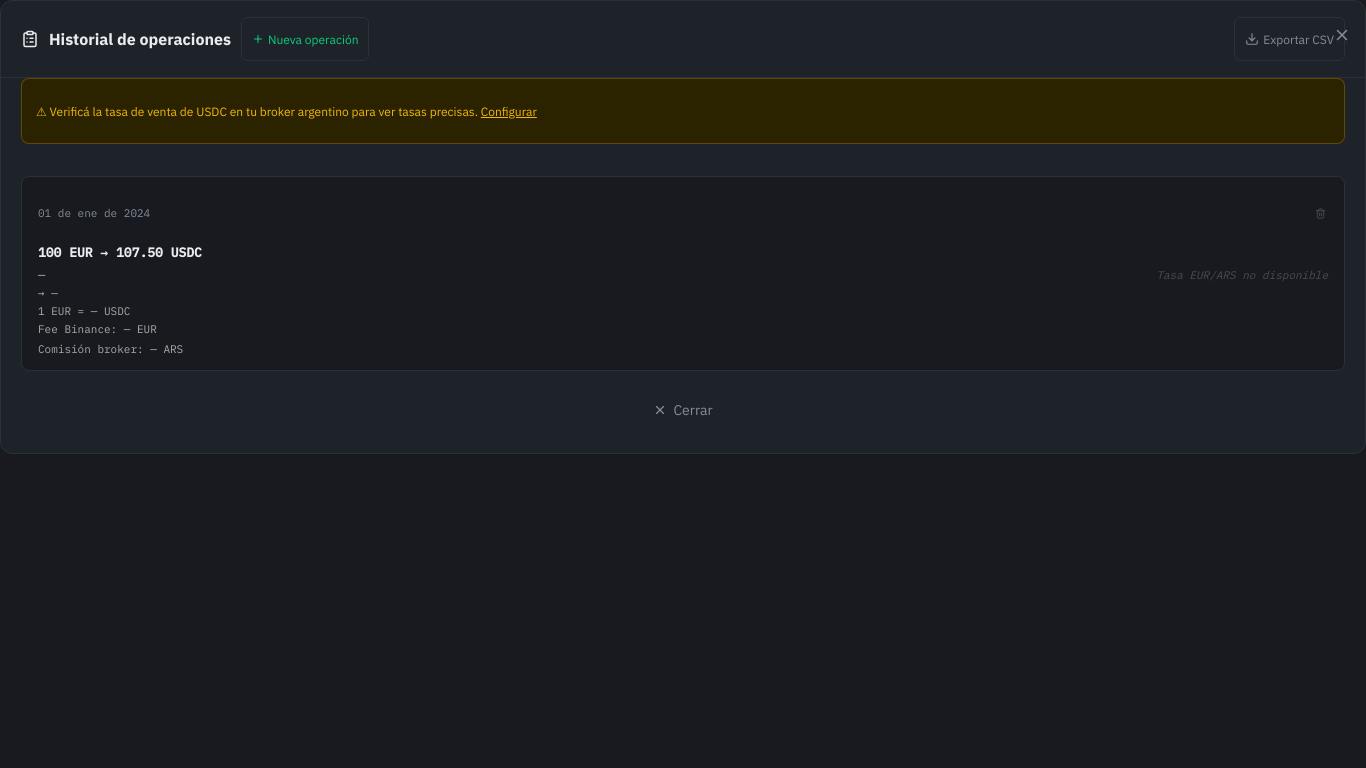
Delete entry with confirmation dialog › clickear el botón eliminar abre un diálogo de confirmación (no window.confirm)
Click the button named "Eliminar operación".
click(1320, 213)  # box [1313,191,1328,235]
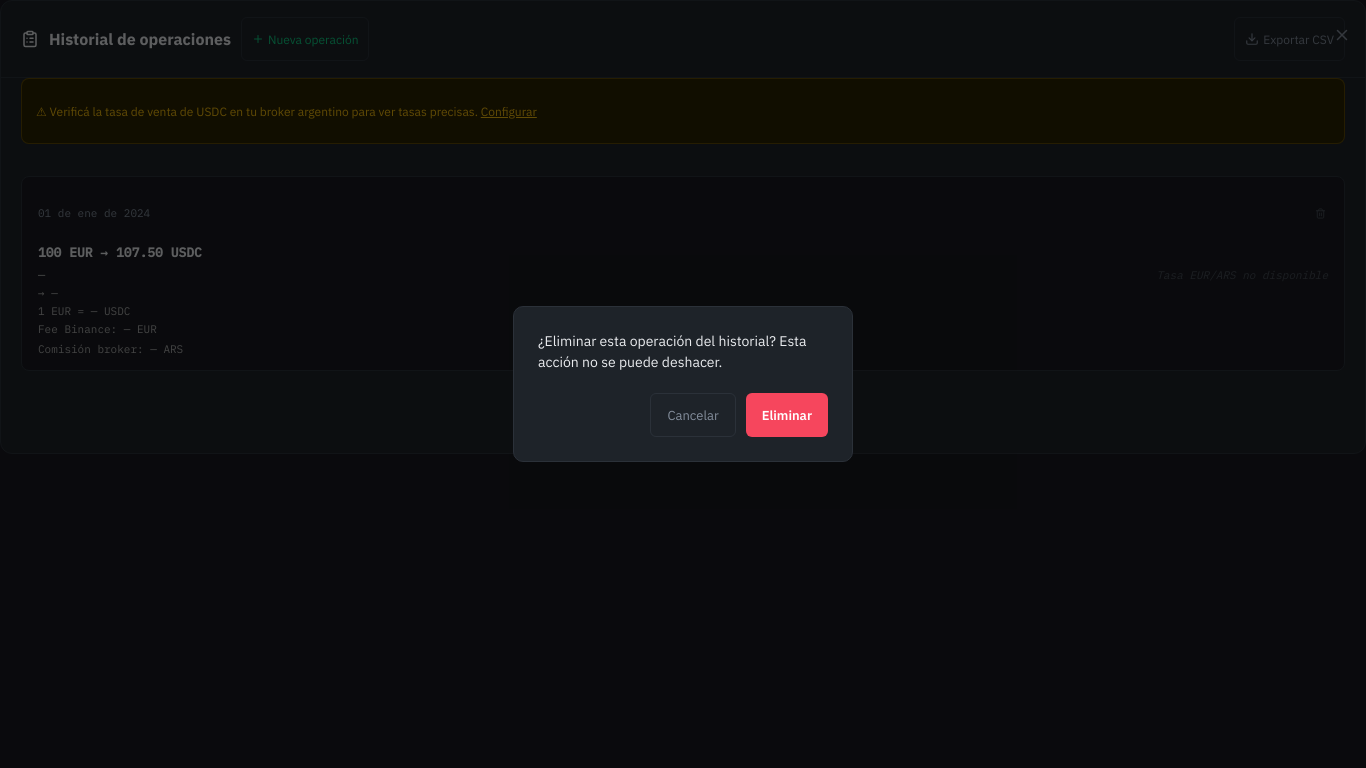
Now the text "Eliminar esta operación del historial" is shown, box [538,332,806,371]
